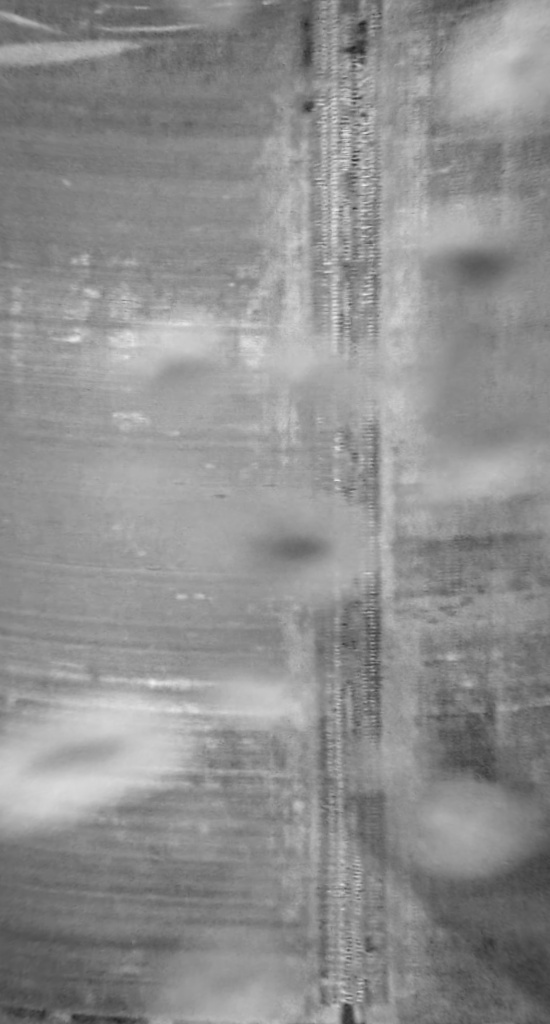splice: (308, 1, 405, 1023)
